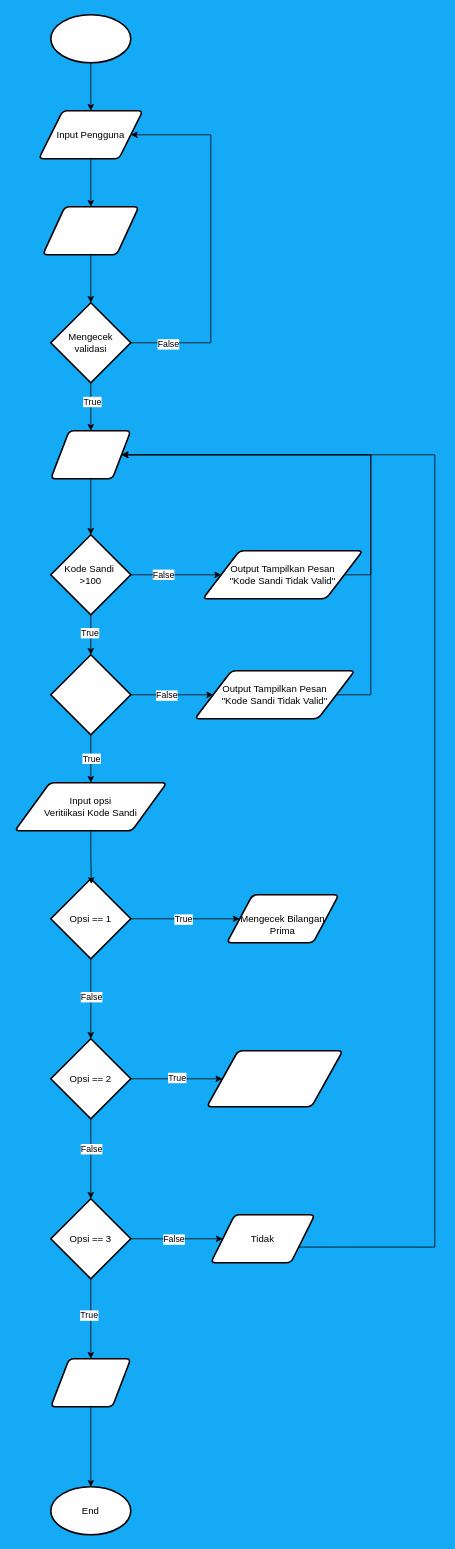
This 455x1549 diagram has some shape labels left out. Here are the shapes that lost their labels. From the top down, the centre of each, then its label:
At point 90,38: "Start".
At point 90,230: "Input Passwod".
At point 90,454: "Input Kode Sandi".
At point 90,694: "Kode Sandi <99999".
At point 274,1078: "Mengecek Bilangan Habis Dibagi 2 dan 3 Tetapi Tidak Habis Dibagi 5".
At point 90,1382: "Keluar".
